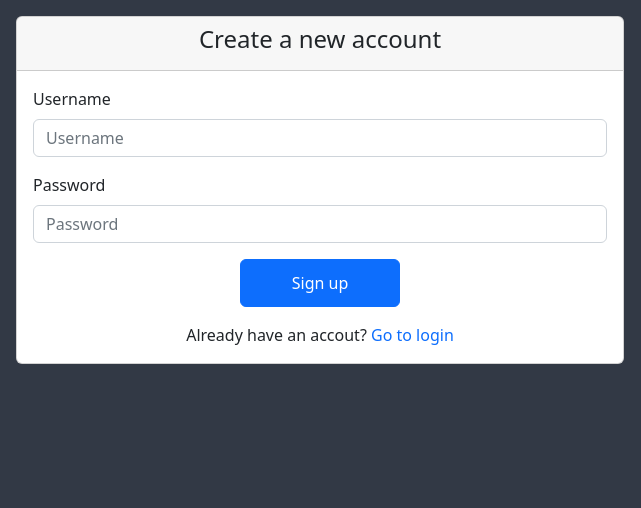
Singup page test › Alert error if both username and password are empty
This screenshot has width=641, height=508.
Click the button "Sign up".
click(320, 283)  # box [240,259,400,307]
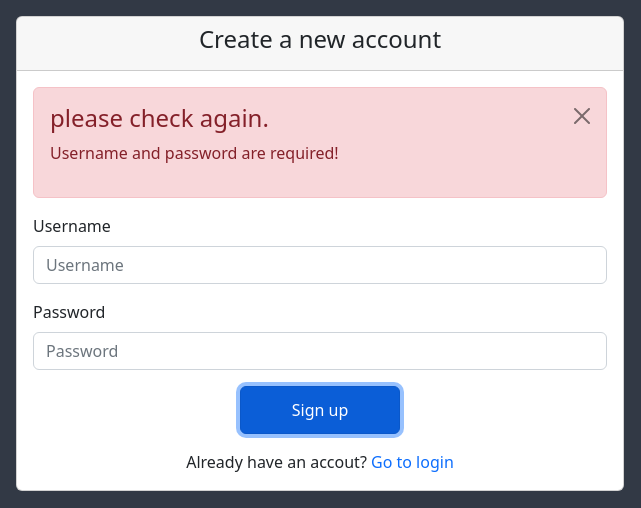
Expected: the text "Username and password are required!" is shown, [50,142,339,164]
